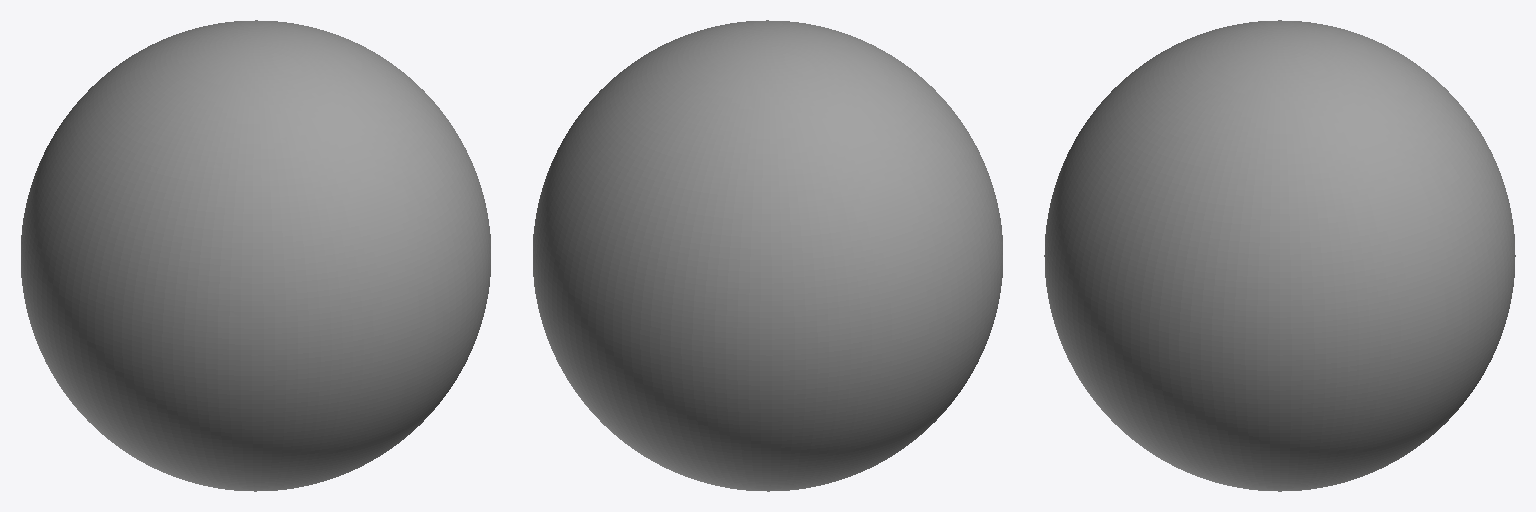
File: urano.obj
3 renders of one model, left to right at view 1: azimuth 30°, elevation 25°; view 2: azimuth 150°, elevation 25°; view 3: azimuth 270°, elevation 25°, orthographic.
Visible parts, largest first — view 1: Moon_Sphere.002; view 2: Moon_Sphere.002; view 3: Moon_Sphere.002.
Boxes of the visible parts, <box> form: Moon_Sphere.002: <box>21,20,490,491</box>; Moon_Sphere.002: <box>533,20,1002,491</box>; Moon_Sphere.002: <box>1044,20,1515,491</box>.
Bounding box in the file's own units: 4.21 × 4.21 × 4.21.